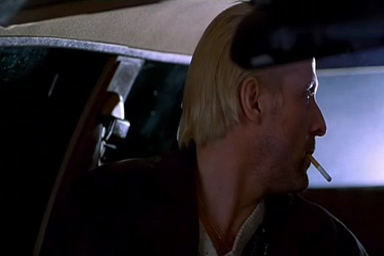cu: (1, 1, 384, 256)
face: (277, 57, 327, 197)
person: (56, 1, 368, 256)
